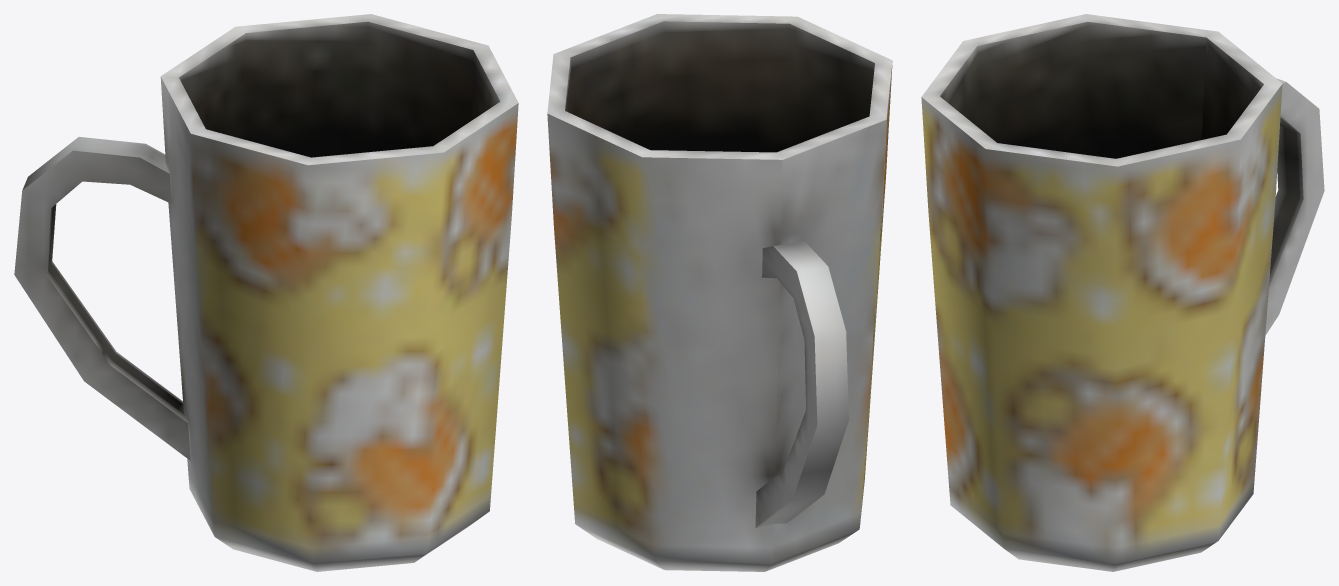
Rendered from Mug_02.FBX.
The picture shows the model from 3 angles, left to right: view 1: azimuth 30°, elevation 25°; view 2: azimuth 150°, elevation 25°; view 3: azimuth 270°, elevation 25°; orthographic projection.
Visible parts, largest first — view 1: Mug_02; view 2: Mug_02; view 3: Mug_02.
Part boxes in pixels (x1=…): Mug_02: x1=14, y1=14, x2=518, y2=571; Mug_02: x1=547, y1=14, x2=892, y2=571; Mug_02: x1=921, y1=14, x2=1324, y2=571.
Bounding box in the file's own units: 11.99 × 12.8 × 10.95.
